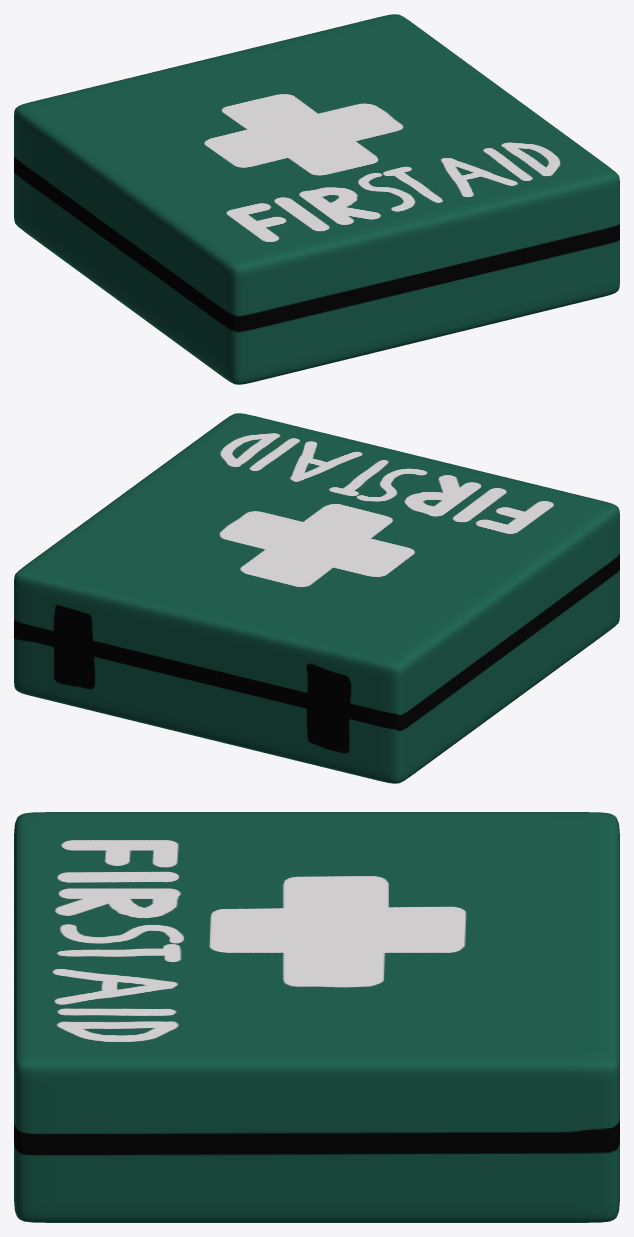
Rendered from First_Aid_Kit.fbx.
The picture shows the model from 3 angles, top to bottom: view 1: azimuth 30°, elevation 25°; view 2: azimuth 150°, elevation 25°; view 3: azimuth 270°, elevation 25°; orthographic projection. The views are drawn at different scales.
Parts seen in each view (by area): view 1: First_Aid_Kit; view 2: First_Aid_Kit; view 3: First_Aid_Kit.
Boxes of the visible parts, x1,y1,x2,y2 form: First_Aid_Kit: (14,14,619,384); First_Aid_Kit: (14,413,619,783); First_Aid_Kit: (14,812,619,1222).
Size of the model in its own units: 0.4266 by 0.1273 by 0.4266.
Materials: 1 (1 with a texture image).
